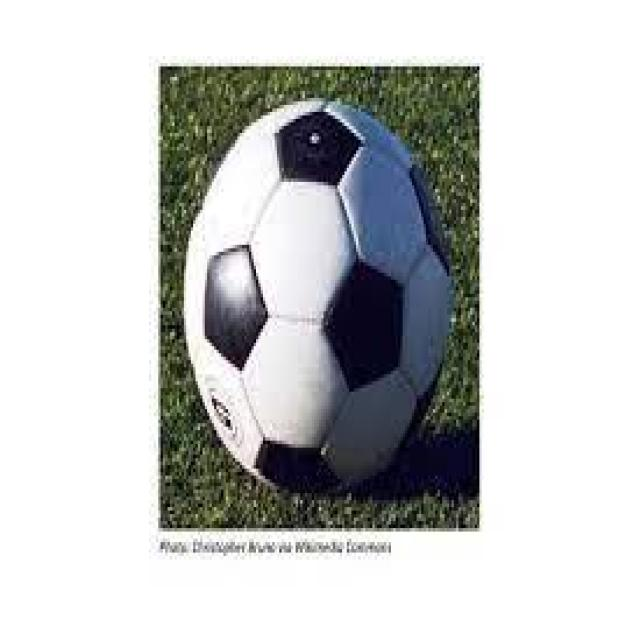ball: (177, 89, 458, 501)
